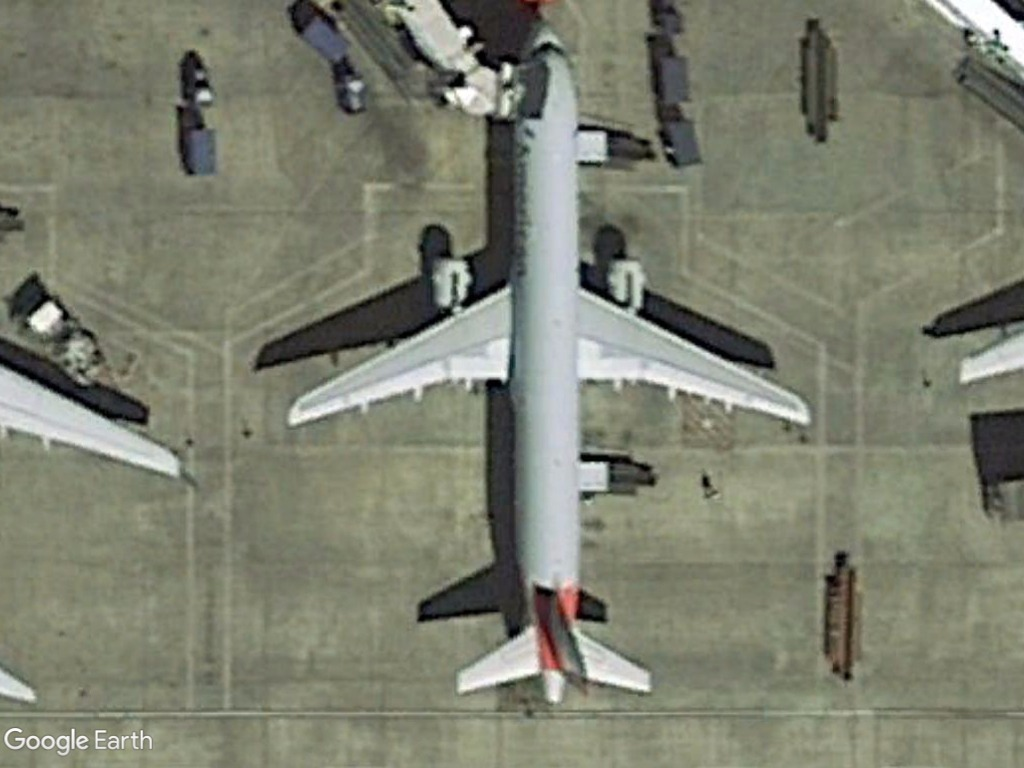airliner: (272, 20, 818, 709)
